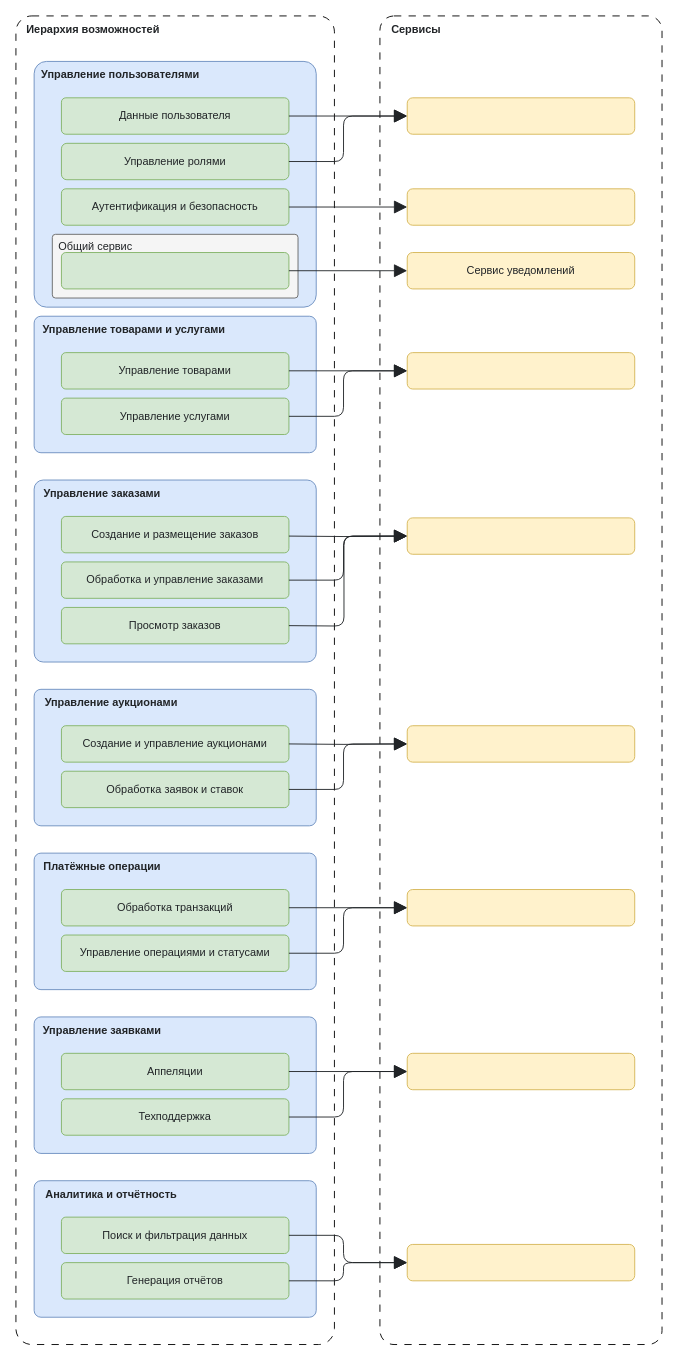
The diagram is 678 pixels wide and 1368 high, and some of its shapes have lost their labels. The shapes that lost their labels are listed below. From the top down, each one's box as (x1, y1, x2, y2) in pixels, then its label:
(406, 97, 635, 134): Сервис управления пользователями
(406, 188, 635, 225): Сервис аутентификации и авторизации
(61, 252, 289, 289): Уведомления
(406, 352, 635, 389): Сервис управления товарами и услугами
(406, 517, 635, 554): Сервис управления заказами
(406, 725, 635, 762): Сервис управления аукционами
(406, 889, 635, 926): Сервис инициации и авторизации платежей
(406, 1052, 635, 1090): Сервис техподдержки
(406, 1244, 635, 1281): Сервис генерации отчётов
